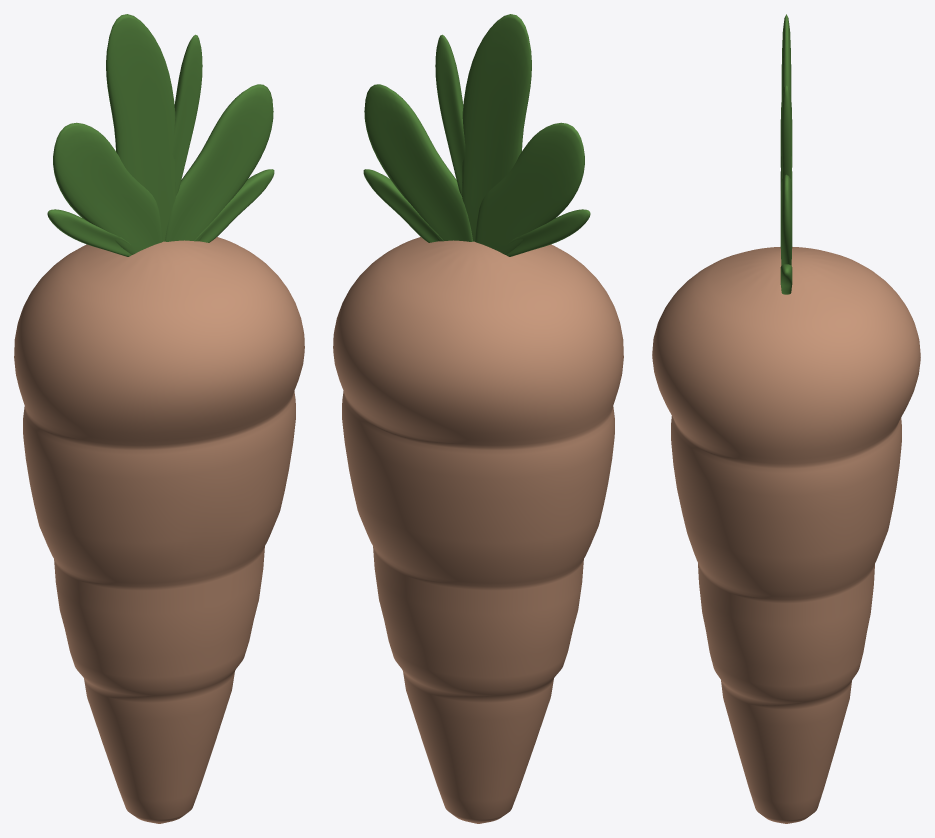
File: Farm_Carrot.fbx
3 renders of one model, left to right at view 1: azimuth 30°, elevation 25°; view 2: azimuth 150°, elevation 25°; view 3: azimuth 270°, elevation 25°, orthographic. The views are drawn at different scales.
Visible parts, largest first — view 1: pCylinder3, pCube8; view 2: pCylinder3, pCube8; view 3: pCylinder3, pCube8.
Part boxes in pixels (box(x1,y1,x2,y2)): pCylinder3: box(14, 237, 304, 823); pCube8: box(47, 14, 274, 256); pCylinder3: box(333, 237, 623, 823); pCube8: box(363, 14, 590, 256); pCylinder3: box(652, 247, 920, 823); pCube8: box(780, 14, 792, 294).
Bounding box in the file's own units: 1.8 × 5.49 × 1.69.
